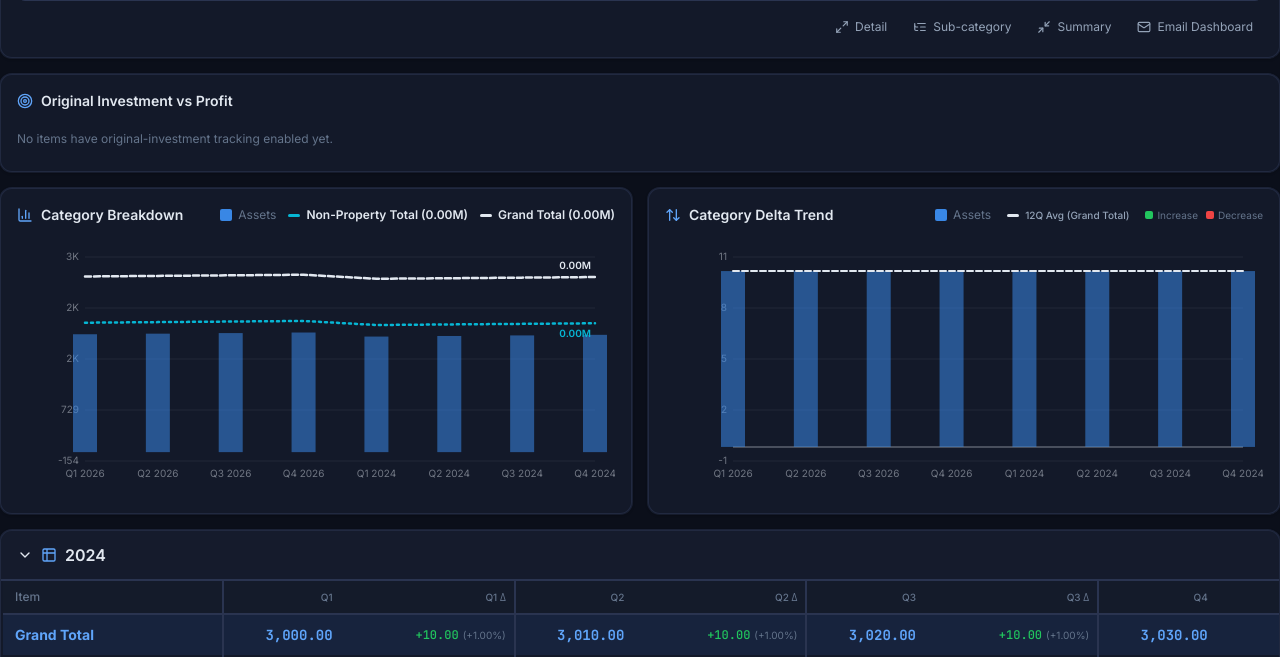
Test: TrackingDashboardPage — global Detail/Sub-category/Summary toggle › lets a user independently re-expand just one sub-category's items after "Sub-category" view collapses all of them
Step 1. Click the button "Sub-category" → (962, 27), box [903,13,1022,41]
(page scrolled)
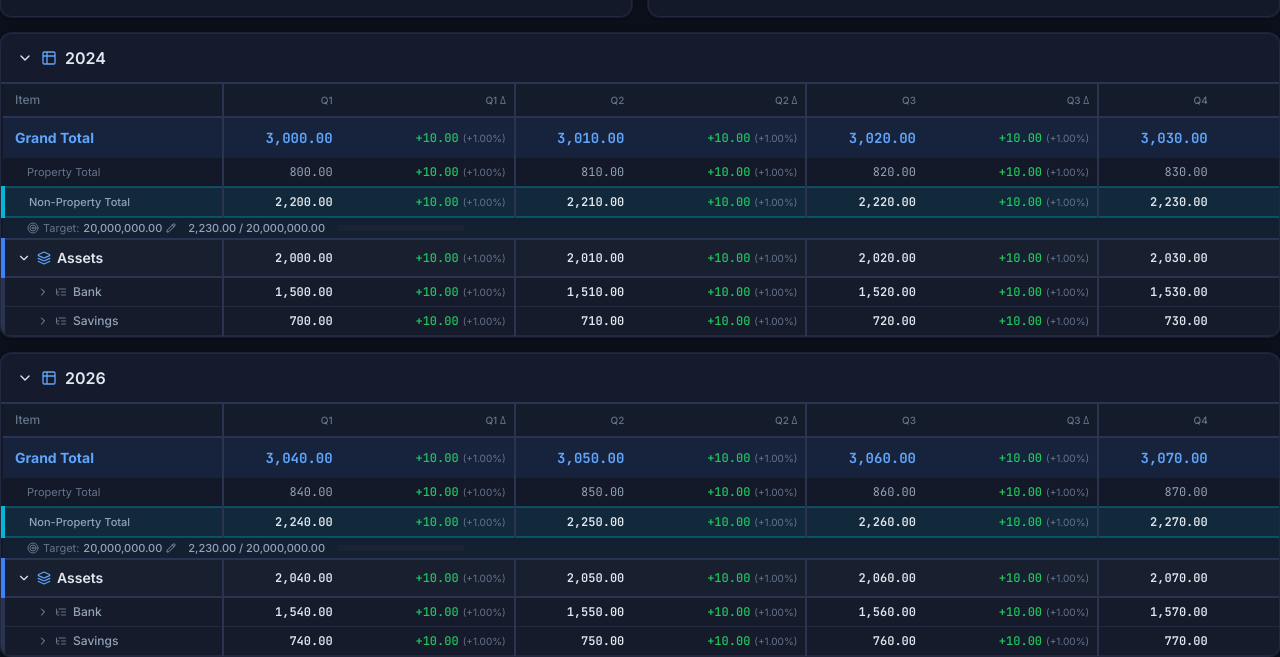
Step 2. Click the button "Bank" in the row of "1,500.00" → (69, 292), box [37,284,102,300]
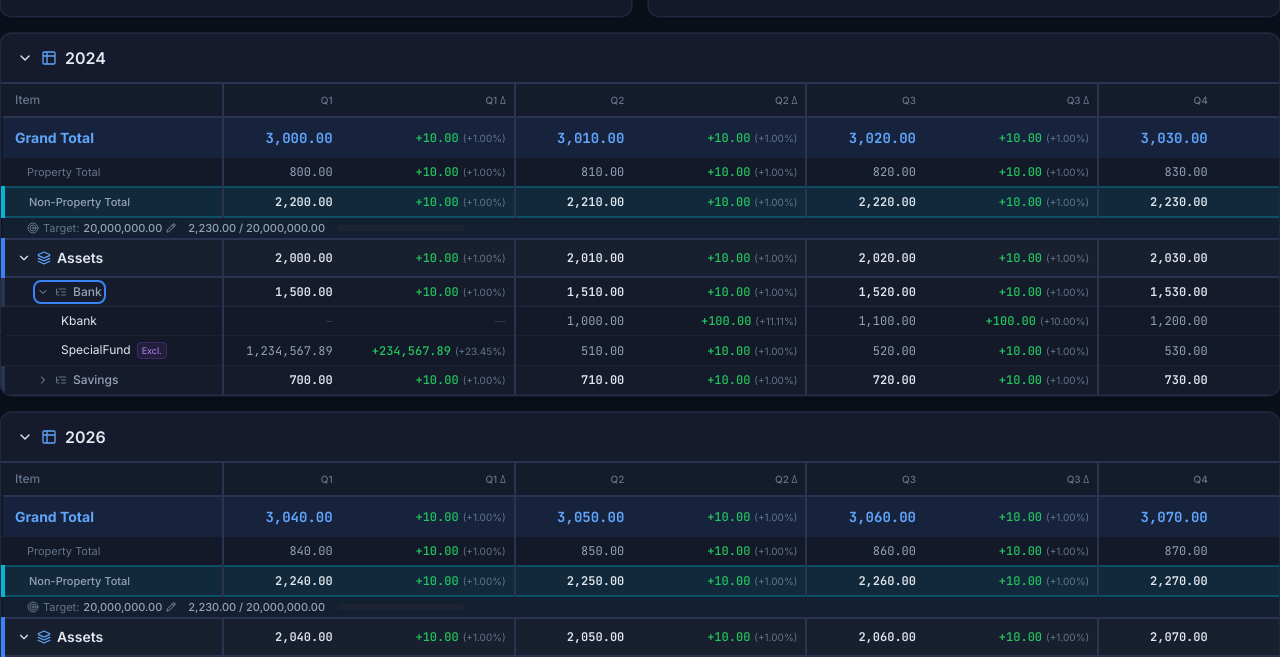
Expected: the text "Kbank" is shown 2 times
Expected: the text "SpecialFund" is shown 2 times
